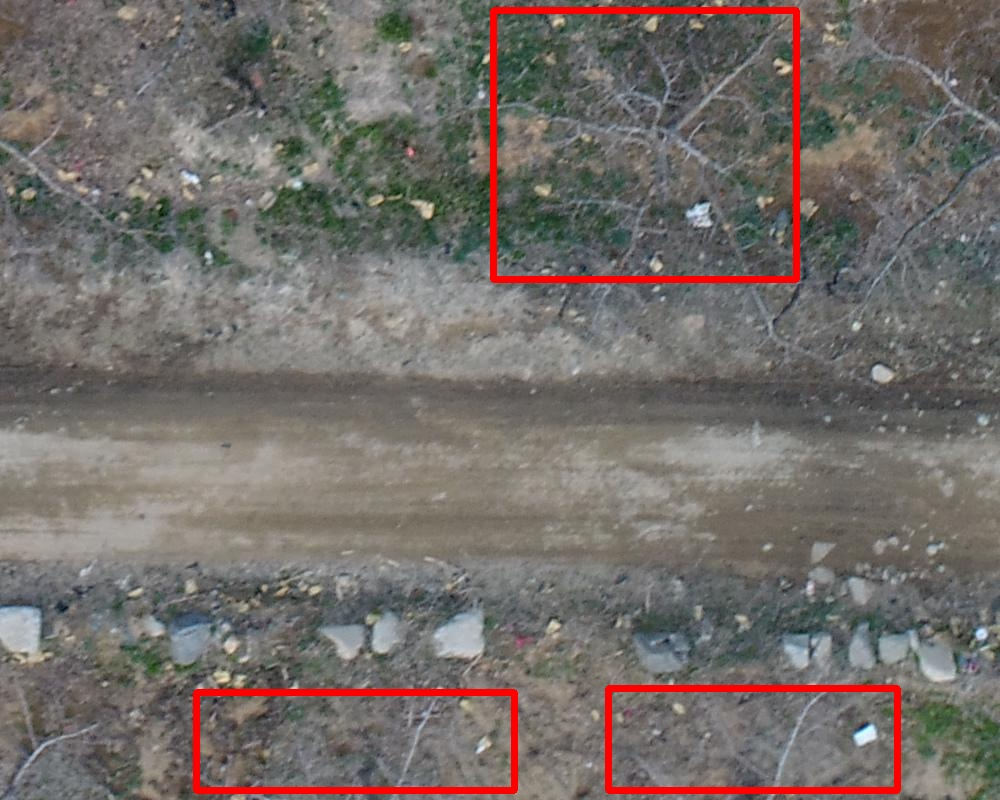apple: (493, 10, 796, 279), (196, 692, 514, 790), (608, 688, 897, 790)
